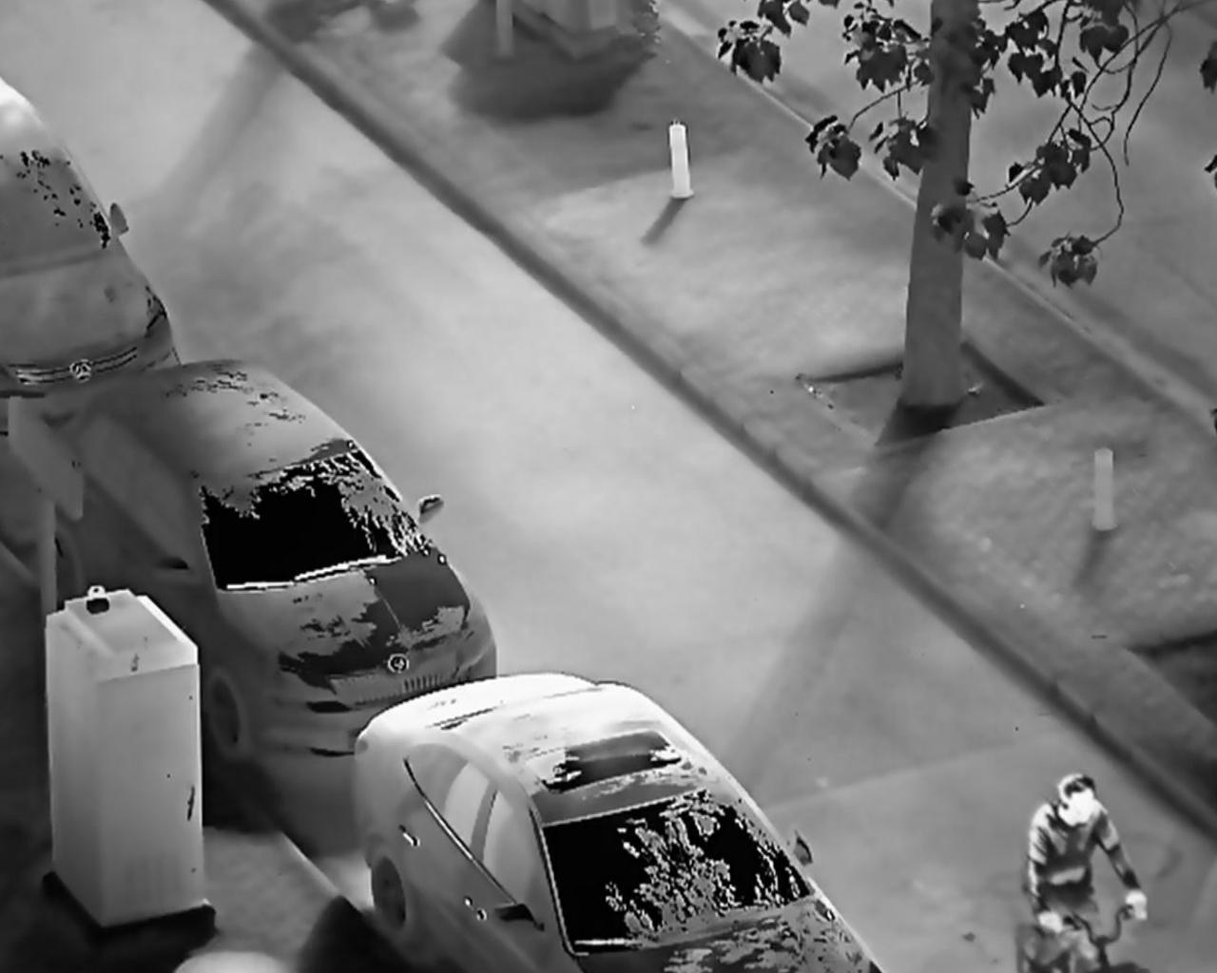person: (1024, 771, 1151, 964)
